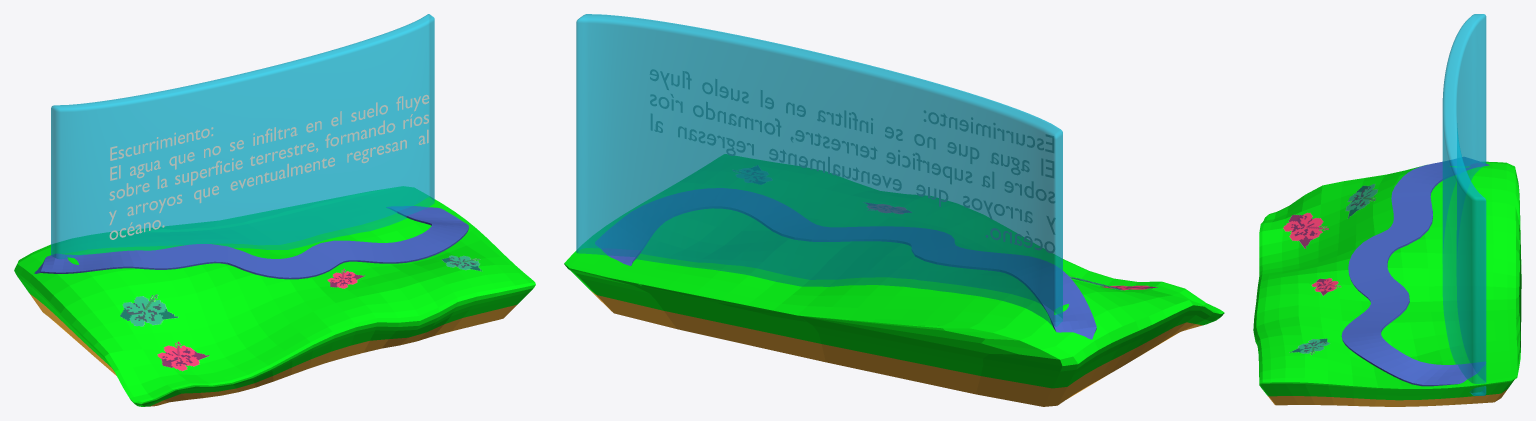
Rendered from 1escurrimiento.glb.
The picture shows the model from 3 angles, left to right: view 1: azimuth 30°, elevation 25°; view 2: azimuth 150°, elevation 25°; view 3: azimuth 270°, elevation 25°; orthographic projection. The views are drawn at different scales.
Parts seen in each view (by area): view 1: Cube, Cubo, Plano, Escurrimiento, Diseño sin título (1), Diseño sin título (2).001; view 2: Cube, Cubo, Plano, Escurrimiento; view 3: Cubo, Cube, Plano, Diseño sin título (2).001, Diseño sin título (1), Diseño sin título (1).001, Diseño sin título (2).
Boxes of the visible parts, x1=… form: Cube: x1=51, y1=14, x2=434, y2=259; Cubo: x1=14, y1=186, x2=535, y2=406; Plano: x1=34, y1=206, x2=468, y2=279; Escurrimiento: x1=109, y1=94, x2=429, y2=239; Diseño sin título (1): x1=120, y1=294, x2=178, y2=326; Diseño sin título (2).001: x1=157, y1=341, x2=209, y2=371; Cube: x1=576, y1=14, x2=1062, y2=326; Cubo: x1=564, y1=154, x2=1224, y2=406; Plano: x1=595, y1=188, x2=1096, y2=339; Escurrimiento: x1=650, y1=69, x2=1055, y2=252; Cubo: x1=1253, y1=161, x2=1521, y2=406; Cube: x1=1442, y1=14, x2=1486, y2=395; Plano: x1=1341, y1=157, x2=1489, y2=386; Diseño sin título (2).001: x1=1283, y1=212, x2=1328, y2=248; Diseño sin título (1): x1=1345, y1=184, x2=1377, y2=218; Diseño sin título (1).001: x1=1289, y1=338, x2=1329, y2=354; Diseño sin título (2): x1=1311, y1=278, x2=1341, y2=295.
Size of the model in its own units: 8.62 by 4.59 by 4.83.
7 materials, 2 textured.
